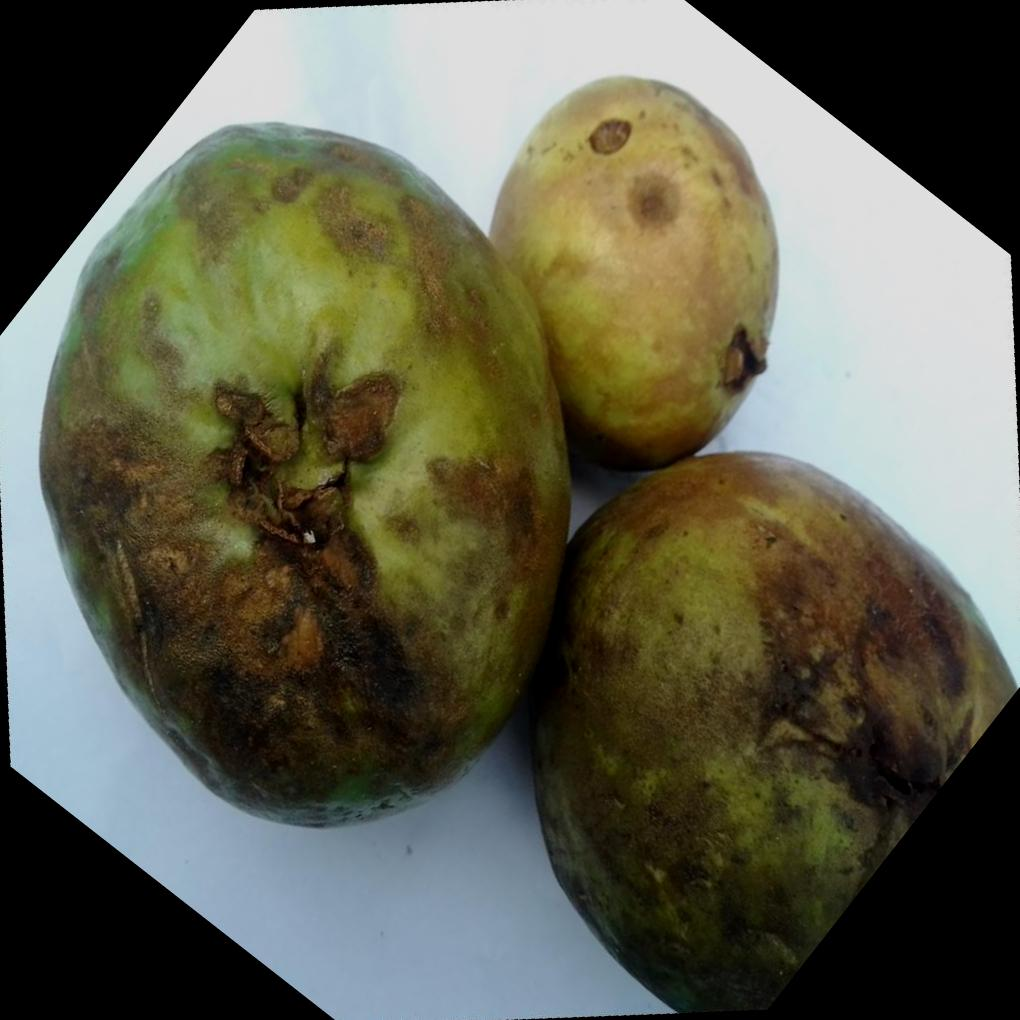FreshOrange: (39, 74, 1019, 1015)
